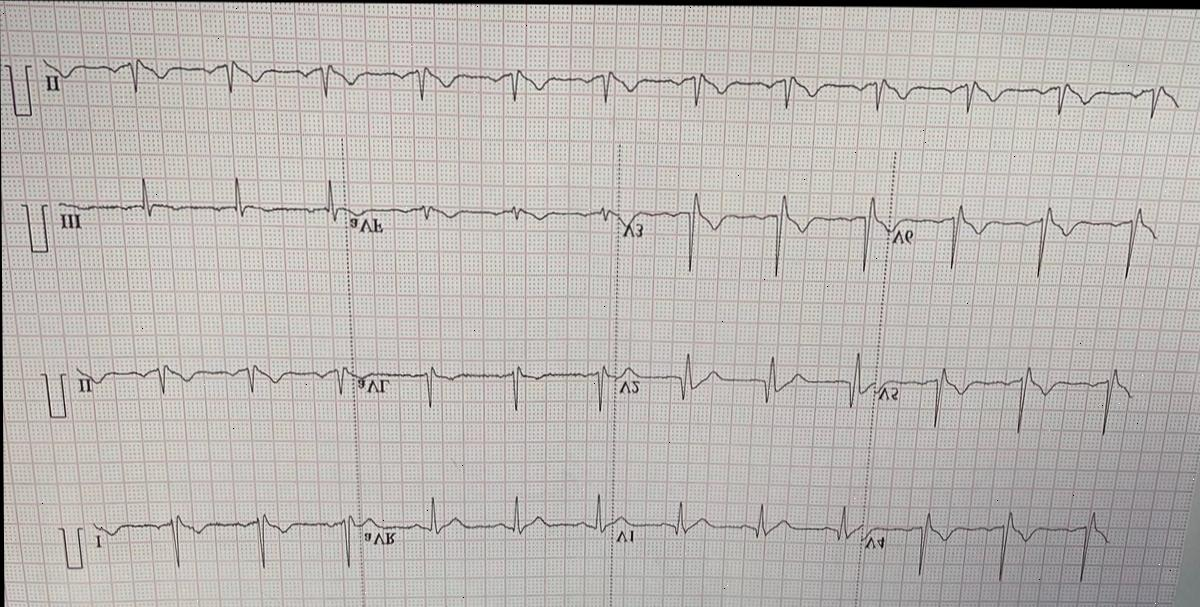Lead_I: (85, 480, 363, 580)
Lead_II: (73, 340, 353, 415)
Lead_III: (49, 162, 346, 245)
Lead_II_ext: (33, 43, 1189, 120)
Lead_V1: (608, 491, 863, 555)
Lead_V2: (614, 346, 878, 420)
Lead_V3: (618, 171, 892, 282)
Lead_V4: (861, 483, 1114, 593)
Lead_V5: (867, 348, 1143, 442)
Lead_V6: (886, 185, 1170, 285)
Lead_aVF: (345, 191, 620, 257)
Lead_aVL: (352, 345, 617, 422)
Lead_aVR: (363, 474, 610, 572)
